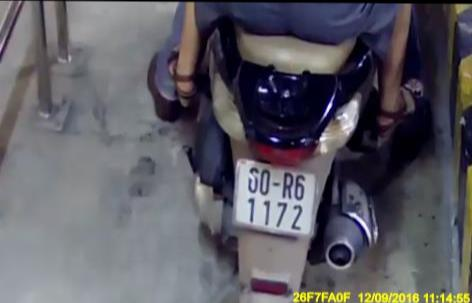LP: (236, 158, 318, 237)
